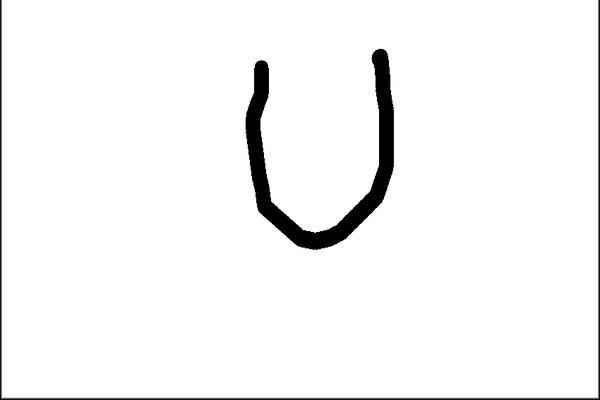U: (243, 35, 405, 253)
